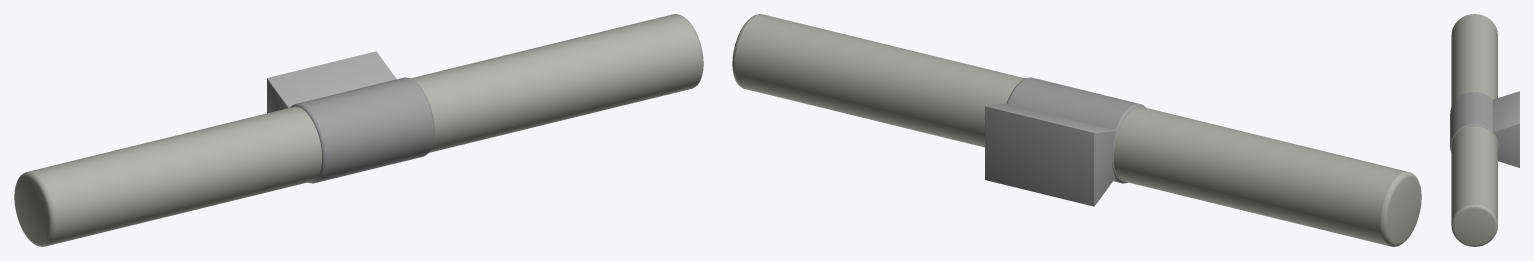
Rendered from cargo_bath_light.glb.
The picture shows the model from 3 angles, left to right: view 1: azimuth 30°, elevation 25°; view 2: azimuth 150°, elevation 25°; view 3: azimuth 270°, elevation 25°; orthographic projection. The views are drawn at different scales.
Visible parts, largest first — view 1: KB3D_API_BldgPartBathLamp_A_Main_transparent, KB3D_API_BldgPartBathLamp_A_Main; view 2: KB3D_API_BldgPartBathLamp_A_Main_transparent, KB3D_API_BldgPartBathLamp_A_Main; view 3: KB3D_API_BldgPartBathLamp_A_Main_transparent, KB3D_API_BldgPartBathLamp_A_Main.
Part boxes in pixels (x1,y1,x2,y2): KB3D_API_BldgPartBathLamp_A_Main_transparent: [14, 14, 703, 246]; KB3D_API_BldgPartBathLamp_A_Main: [267, 51, 434, 183]; KB3D_API_BldgPartBathLamp_A_Main_transparent: [732, 14, 1421, 246]; KB3D_API_BldgPartBathLamp_A_Main: [985, 77, 1146, 206]; KB3D_API_BldgPartBathLamp_A_Main_transparent: [1451, 14, 1497, 246]; KB3D_API_BldgPartBathLamp_A_Main: [1450, 91, 1519, 167].
Size of the model in its own units: 0.7 by 0.0773 by 0.1073.
Materials: 3 (3 with a texture image).
